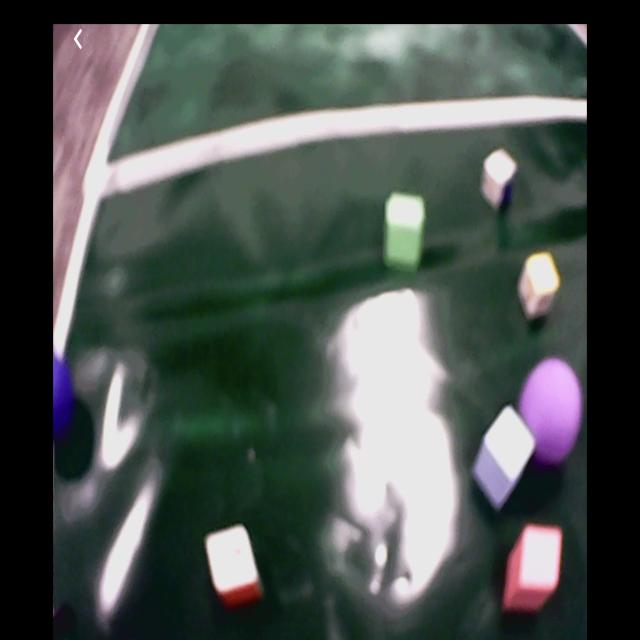ball: (521, 359, 581, 462), (54, 355, 75, 435)
